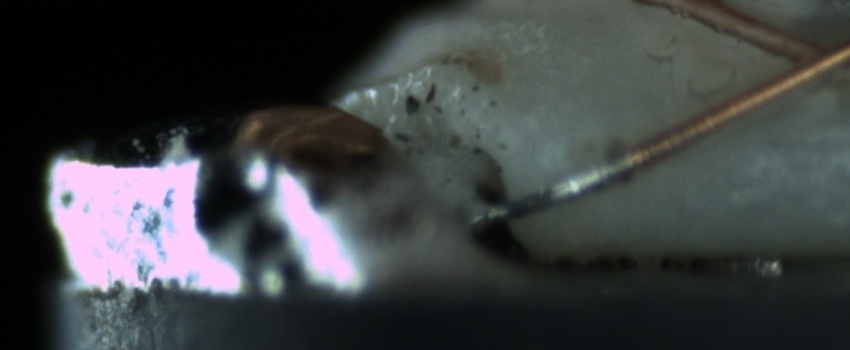CL: (740, 9, 850, 107)
DL: (702, 111, 850, 168)
TS: (477, 151, 627, 222)
